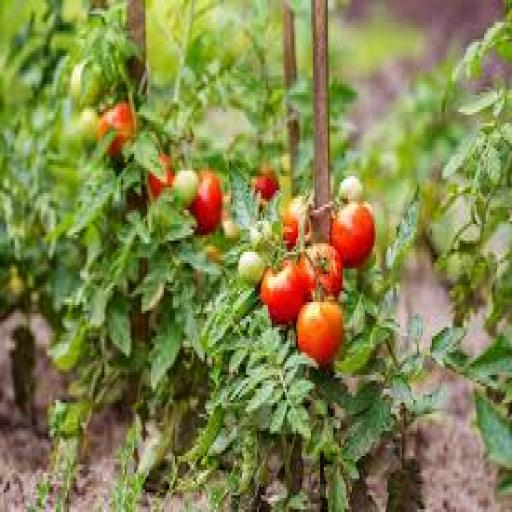tomato: (332, 202, 376, 268), (297, 303, 342, 366), (261, 261, 305, 324), (298, 244, 342, 299), (190, 171, 223, 235), (97, 101, 135, 156), (69, 62, 102, 106), (283, 196, 310, 249), (149, 154, 175, 198), (174, 171, 199, 207), (254, 168, 279, 201), (239, 252, 264, 285), (77, 107, 98, 142), (8, 266, 26, 299), (339, 177, 363, 201), (250, 222, 271, 249), (222, 219, 240, 240), (205, 244, 223, 262), (282, 154, 292, 173)
